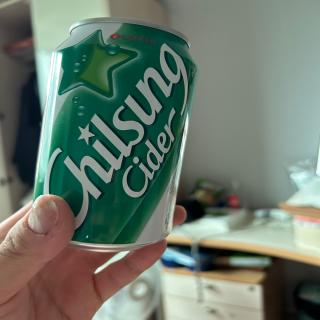chilsung: (32, 15, 200, 252)
